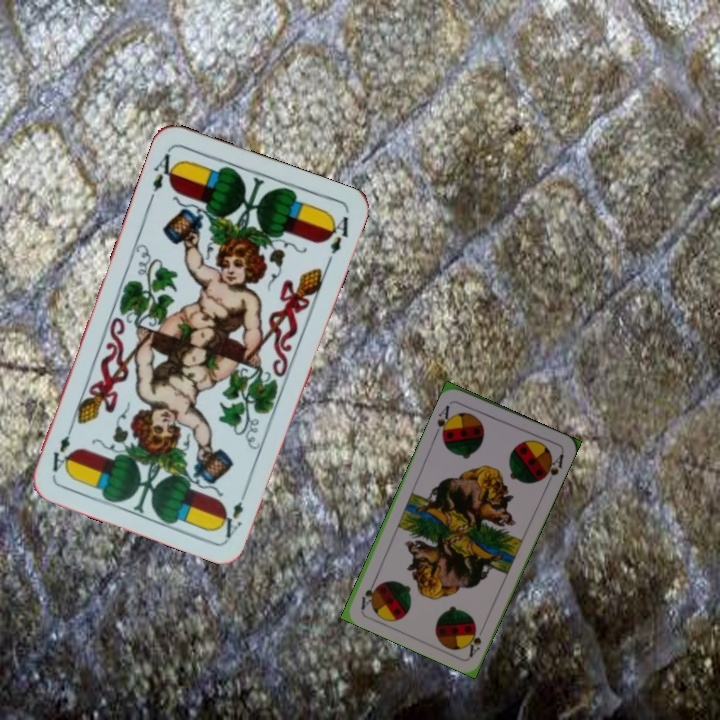EA: (217, 483, 251, 540), (148, 147, 181, 195)
SA: (463, 620, 488, 659), (431, 401, 455, 440)
